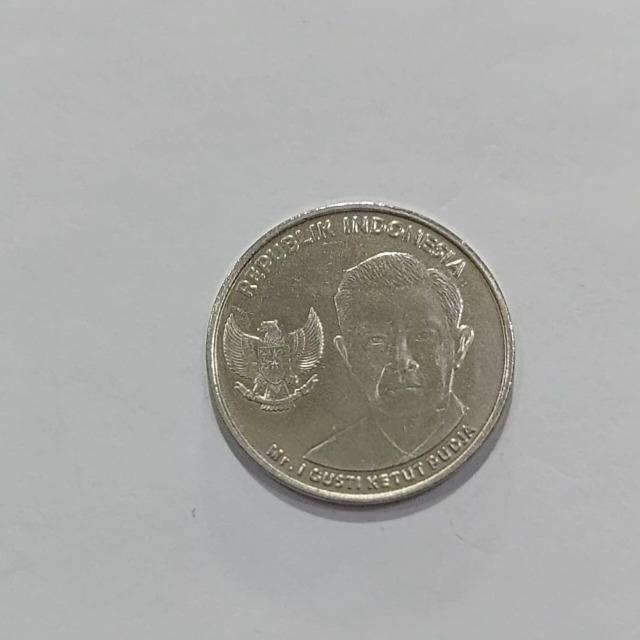Rp100: (204, 199, 516, 507), (298, 248, 478, 474)
